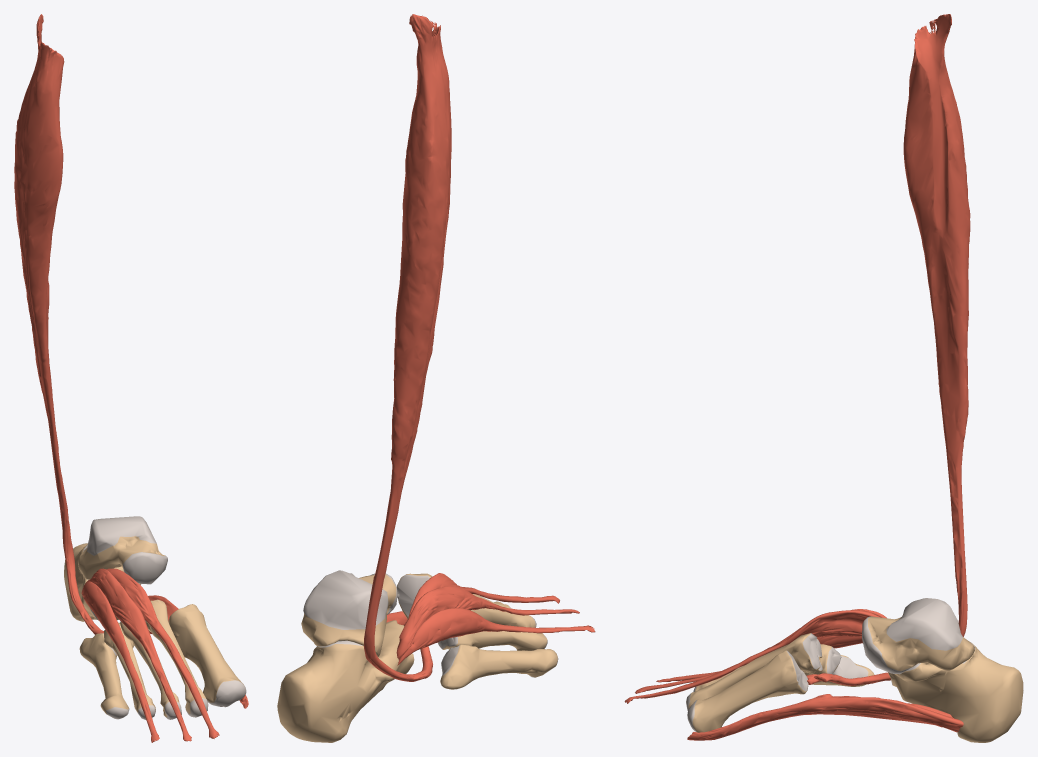
Rendered from foot.glb.
3 renders of one model, left to right at view 1: azimuth 30°, elevation 25°; view 2: azimuth 150°, elevation 25°; view 3: azimuth 270°, elevation 25°, orthographic. The views are drawn at different scales.
Visible parts, largest first — view 1: muscle_peroneus_longus, bone_metatarsals, muscle_extensor_digitorum_brevis, bone_talus, bone_calcaneus; view 2: muscle_peroneus_longus, bone_calcaneus, bone_metatarsals, muscle_extensor_digitorum_brevis, bone_talus; view 3: muscle_peroneus_longus, bone_metatarsals, bone_calcaneus, bone_talus, muscle_abductor_hallucis, muscle_extensor_digitorum_brevis.
Part boxes in pixels (x1,y1,x2,y2): muscle_peroneus_longus: [14, 14, 151, 634]; bone_metatarsals: [79, 599, 246, 719]; muscle_extensor_digitorum_brevis: [81, 568, 219, 742]; bone_talus: [78, 516, 167, 584]; bone_calcaneus: [64, 543, 141, 621]; muscle_peroneus_longus: [363, 14, 451, 681]; bone_calcaneus: [277, 620, 414, 742]; bone_metatarsals: [396, 573, 558, 689]; muscle_extensor_digitorum_brevis: [396, 573, 595, 665]; bone_talus: [301, 570, 397, 656]; muscle_peroneus_longus: [806, 14, 970, 685]; bone_metatarsals: [686, 633, 874, 732]; bone_calcaneus: [888, 642, 1023, 742]; bone_talus: [862, 598, 974, 674]; muscle_abductor_hallucis: [687, 694, 963, 740]; muscle_extensor_digitorum_brevis: [624, 609, 886, 703].
Bounding box in the file's own units: 0.0843 × 0.3981 × 0.2089.
